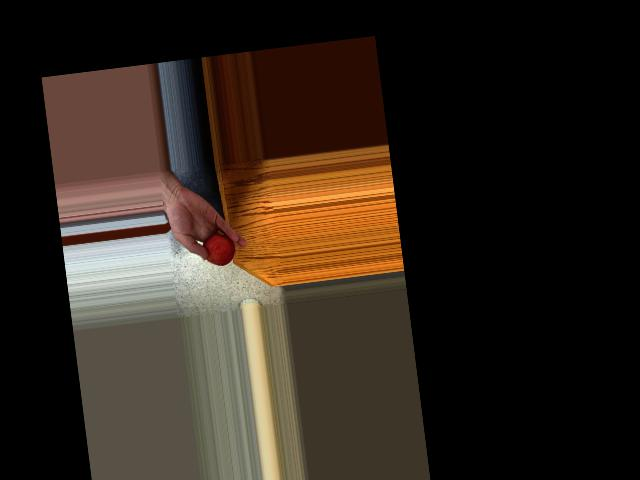apple: (200, 229, 236, 267)
